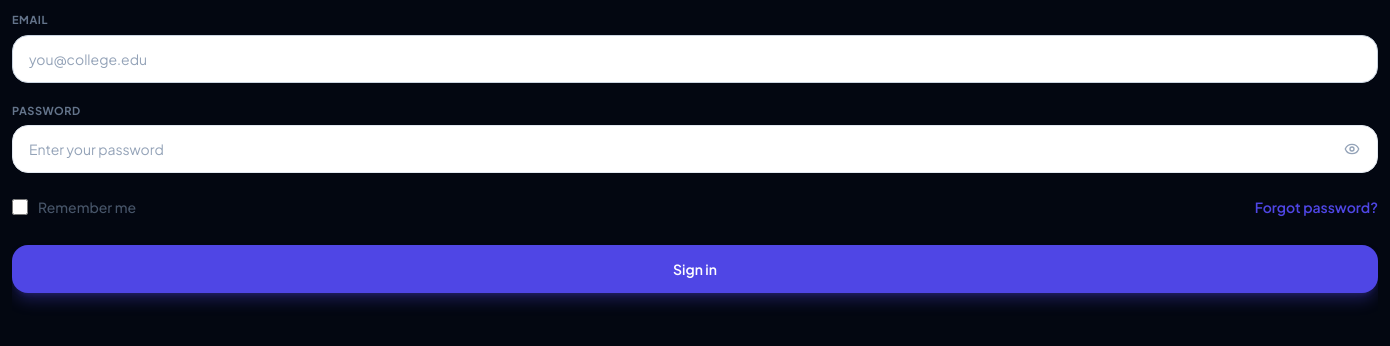
LoginForm › displays client-side validation error for invalid email format
Type "not-an-email" into the field labelled "EMAIL" at (695, 58), box [12, 34, 1378, 82]
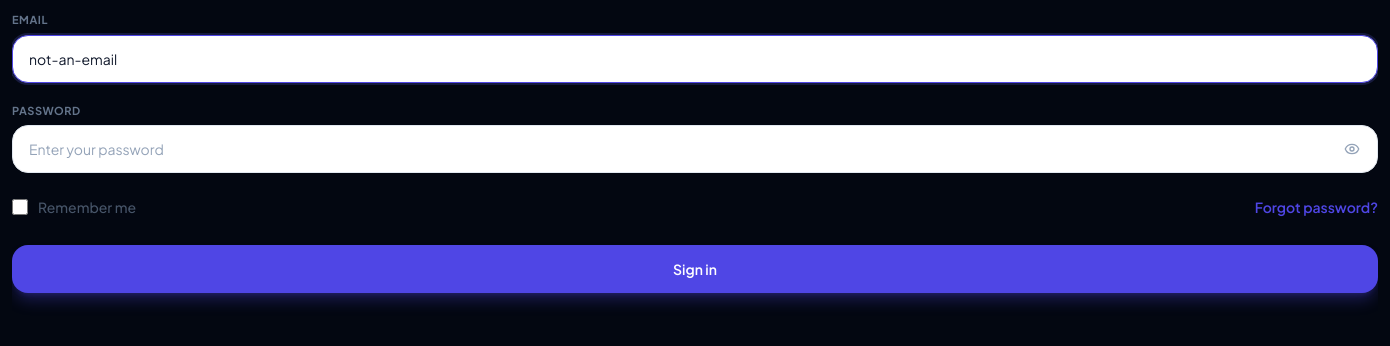
Type "validPassword123" into the password field labelled "PASSWORD" at (695, 149), box [12, 125, 1378, 173]
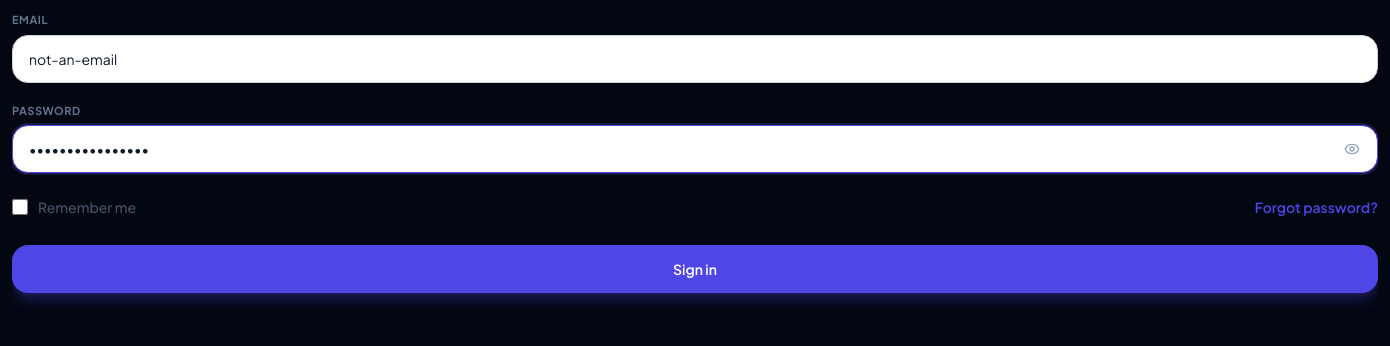
Click the button "Sign in" at (695, 269), box [12, 245, 1378, 293]
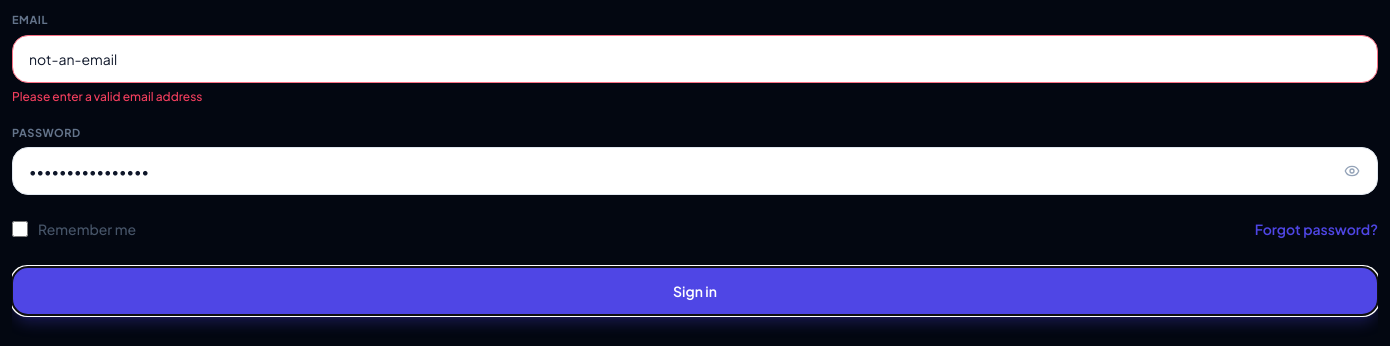
Check: the text "Please enter a valid email address" is shown, box [12, 88, 202, 104]
